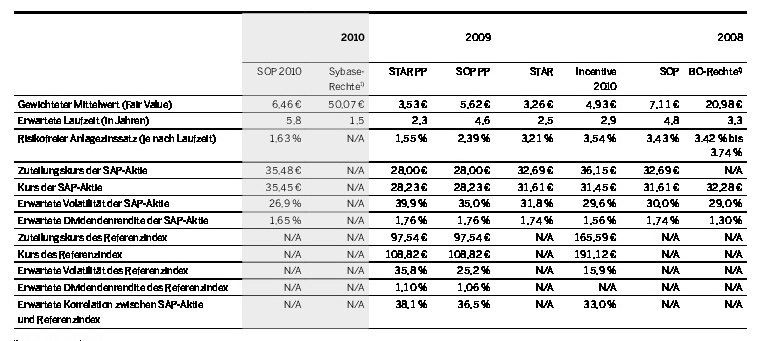table: (0, 0, 763, 341)
